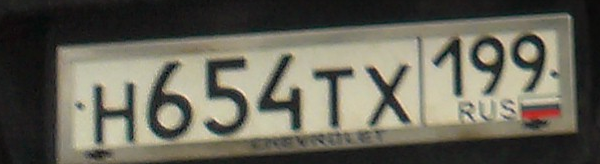character: (198, 50, 254, 140), (254, 51, 308, 135), (146, 58, 198, 139), (305, 63, 360, 131), (364, 58, 414, 129), (91, 76, 139, 146), (509, 31, 548, 96), (431, 32, 467, 101), (468, 33, 507, 96)
